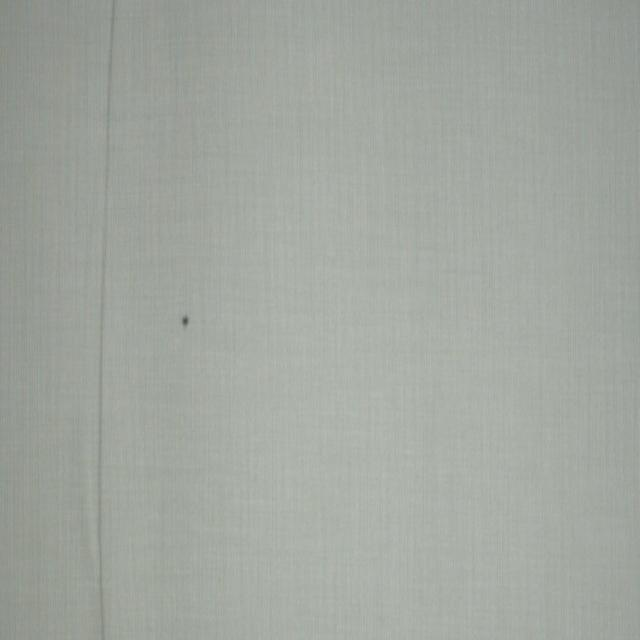dirty: (182, 315, 188, 326)
